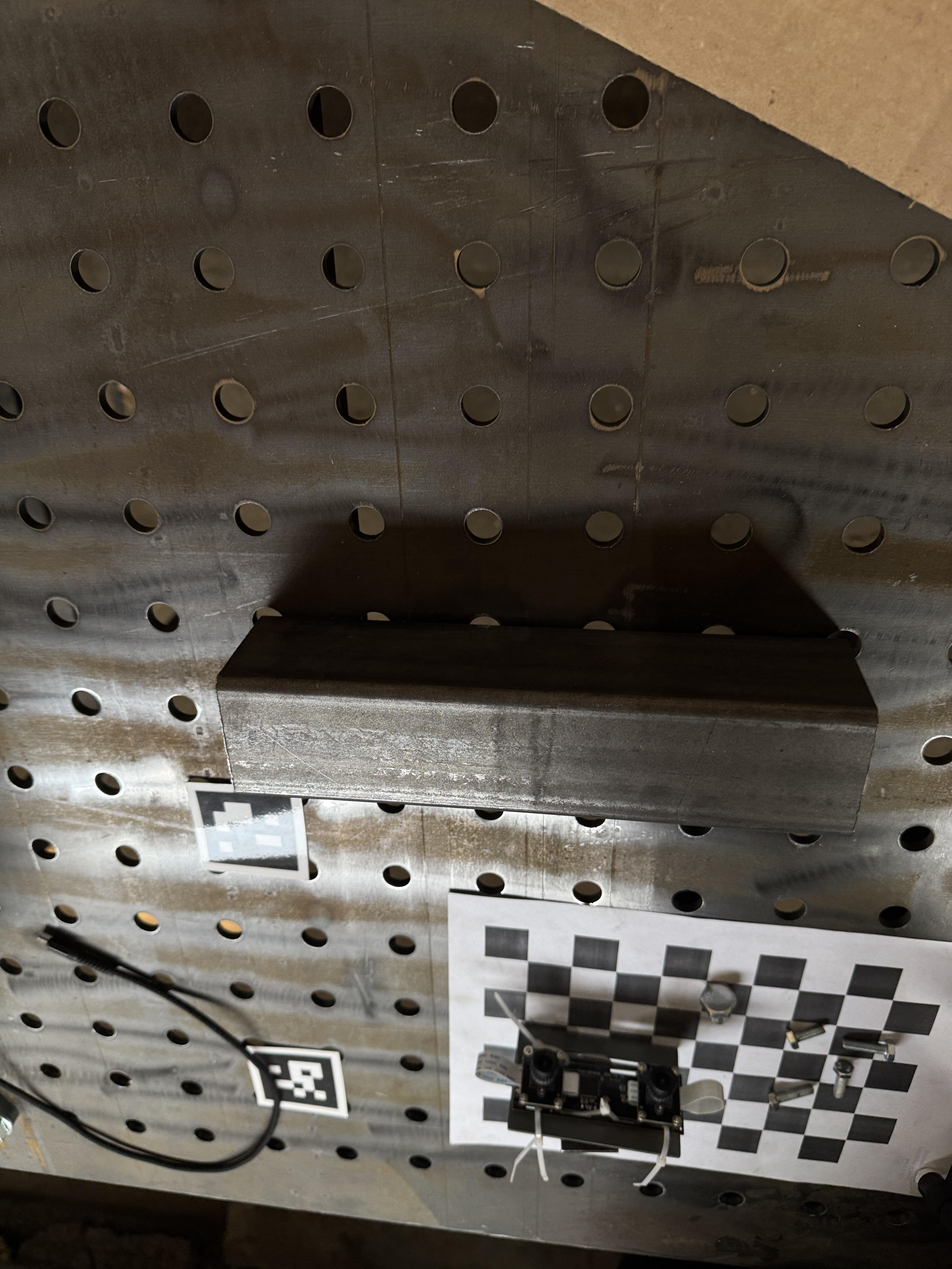detail: (214, 615, 880, 838)
